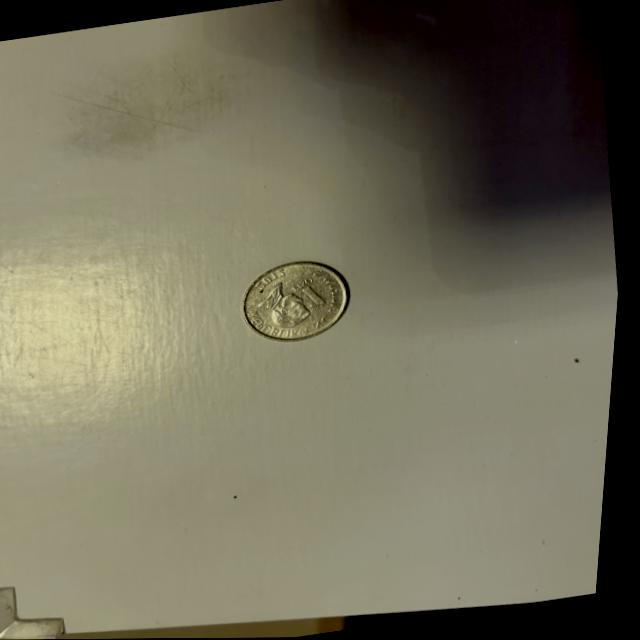1_Old_Front: (293, 275, 333, 313)
